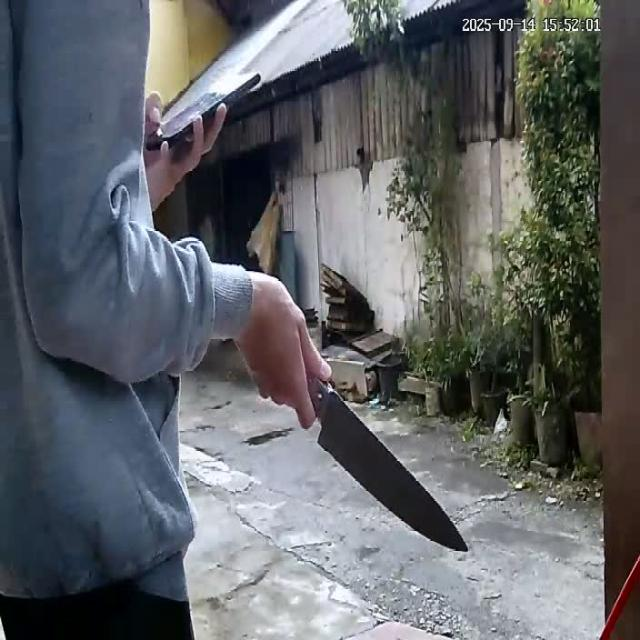senjata_tajam: (316, 387, 472, 557)
